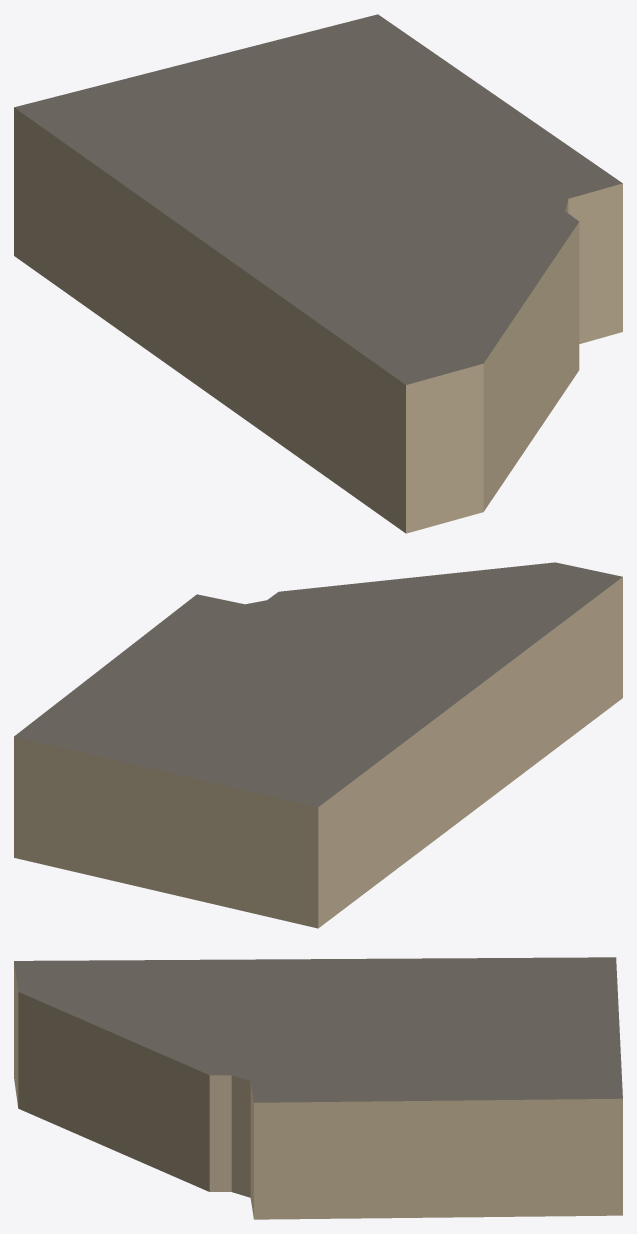
3 renders of one model, top to bottom at view 1: azimuth 30°, elevation 25°; view 2: azimuth 150°, elevation 25°; view 3: azimuth 270°, elevation 25°, orthographic. The views are drawn at different scales.
Parts seen in each view (by area): view 1: HP-w1510928794; view 2: HP-w1510928794; view 3: HP-w1510928794.
Part boxes in pixels (box(x1,y1,x2,y2)): HP-w1510928794: box(14, 14, 622, 533); HP-w1510928794: box(14, 562, 622, 928); HP-w1510928794: box(14, 957, 622, 1219).
Bounding box in the file's own units: 35.23 × 13.2 × 62.33.
